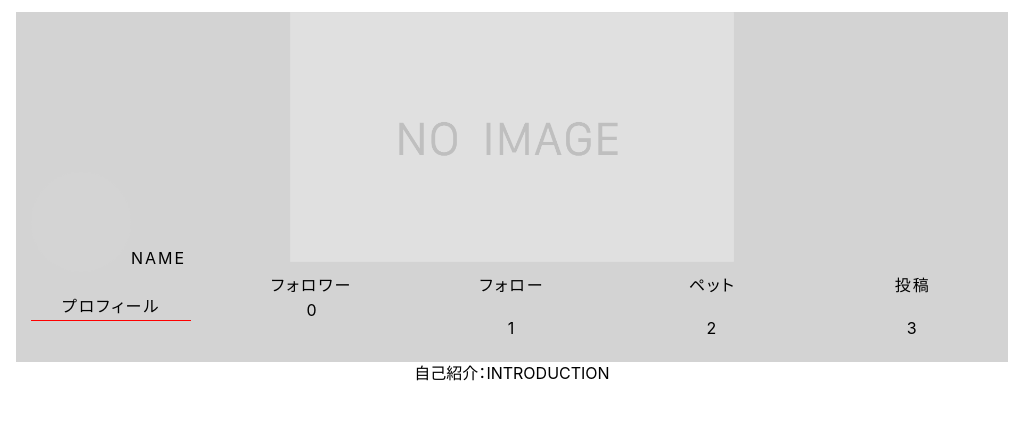
it: Rendering UserDetail › ユーザメニュークリック系 › フォロワー
Click the text "フォロワー".
click(312, 285)  # box [271,275,352,295]
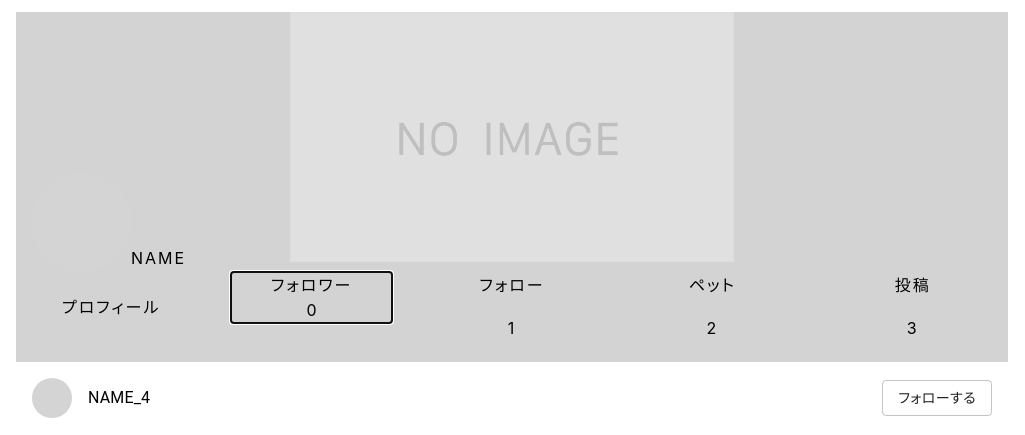
Now the text "NAME_4" is shown, box [88,388,150,407]
